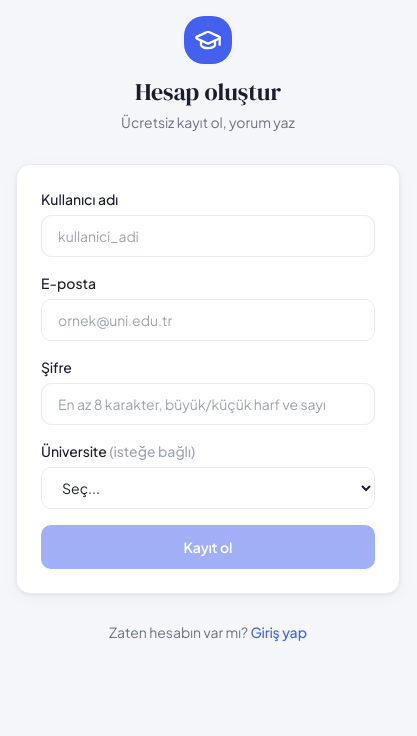
RegisterPage › updates password checklist as user types
Step 1. Type "Aa1" into the password field with placeholder "En az 8 karakter, büyük/küçük harf ve sayı" → [208, 404], box [41,383,375,425]
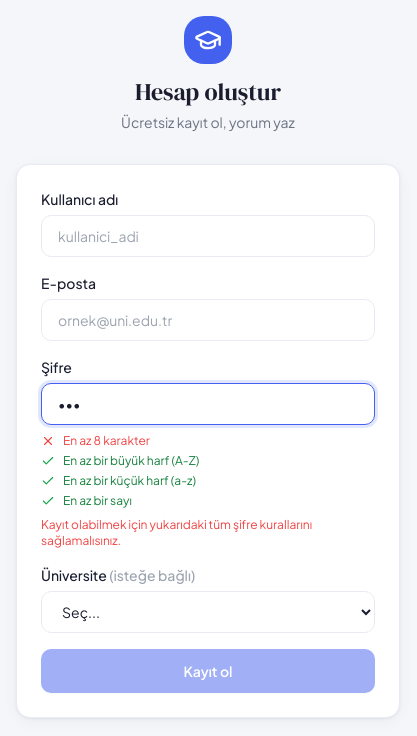
Check: the list item "En az 8 karakter" is shown, box [41,433,150,448]
Check: the list item "En az bir büyük harf (A-Z)" is shown, box [41,453,199,468]
Check: the list item "En az bir küçük harf (a-z)" is shown, box [41,473,196,488]
Step 2. Type "aaaaa" into the password field with placeholder "En az 8 karakter, büyük/küçük harf ve sayı" → [208, 404], box [41,383,375,425]
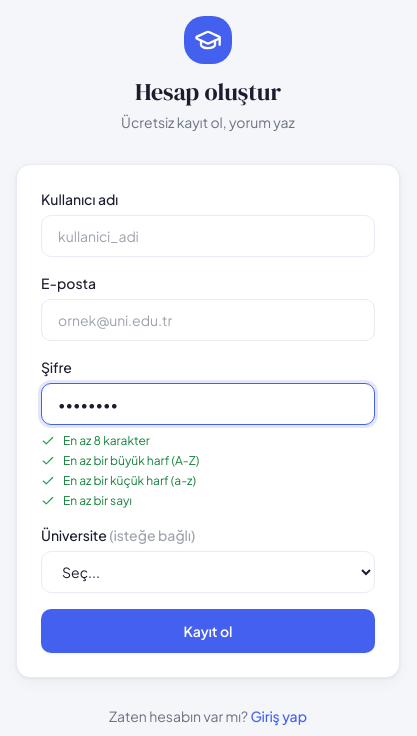
Check: the text "tüm şifre kurallarını sağlamalısınız" is gone
